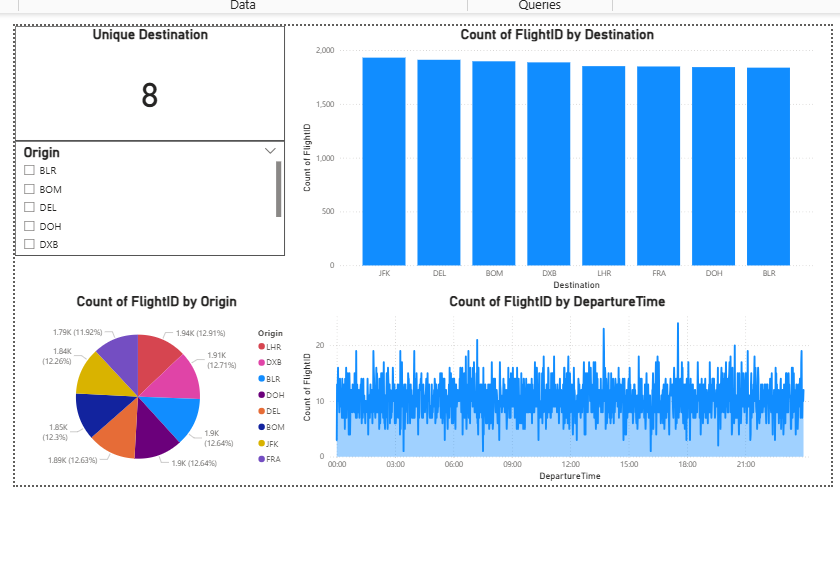

What the dashboard file says about the page in this screenshot:
{"tool":"powerbi","page":{"name":"Duplicate of Page 2","canvas":[1280,720],"ordinal":2},"visuals":[{"type":"card","title":"Unique Destination","fields":{"Values":["Count(Sheet1.Destination)"]},"box":[0,0,423.5,180.4],"z":0},{"type":"pieChart","fields":{"Category":["Sheet1.Origin"],"Y":["CountNonNull(Sheet1.FlightID)"]},"box":[0,419.6,445.1,300],"z":1000},{"type":"slicer","fields":{"Values":["Sheet1.Origin"]},"box":[0,180.4,423.5,180.4],"z":2000},{"type":"clusteredColumnChart","fields":{"Category":["Sheet1.Destination"],"Y":["CountNonNull(Sheet1.FlightID)"]},"box":[445.1,0,811.8,419.6],"z":3000},{"type":"areaChart","fields":{"Category":["Sheet1.DepartureTime"],"Y":["CountNonNull(Sheet1.FlightID)"]},"box":[445,420,812,300],"z":4000}]}

Visuals, with their boxes on the page's 1280x720 design canvas (x1, y1, x2, y2). These are canvas units, not pixel positions in the 840x567 screenshot, which may show the page scaled, cropped or inside an application window:
"Unique Destination" card: box(0, 0, 424, 180)
pieChart - Sheet1.Origin x CountNonNull(Sheet1.FlightID): box(0, 420, 445, 720)
slicer - Sheet1.Origin: box(0, 180, 424, 361)
clusteredColumnChart - Sheet1.Destination x CountNonNull(Sheet1.FlightID): box(445, 0, 1257, 420)
areaChart - Sheet1.DepartureTime x CountNonNull(Sheet1.FlightID): box(445, 420, 1257, 720)
